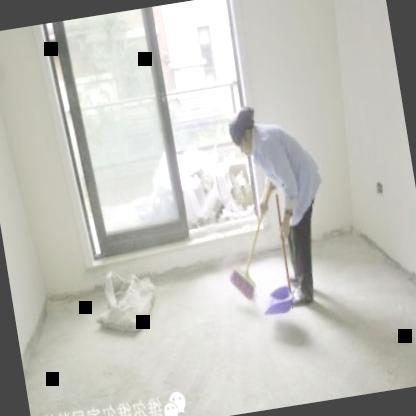head: (226, 102, 263, 165)
